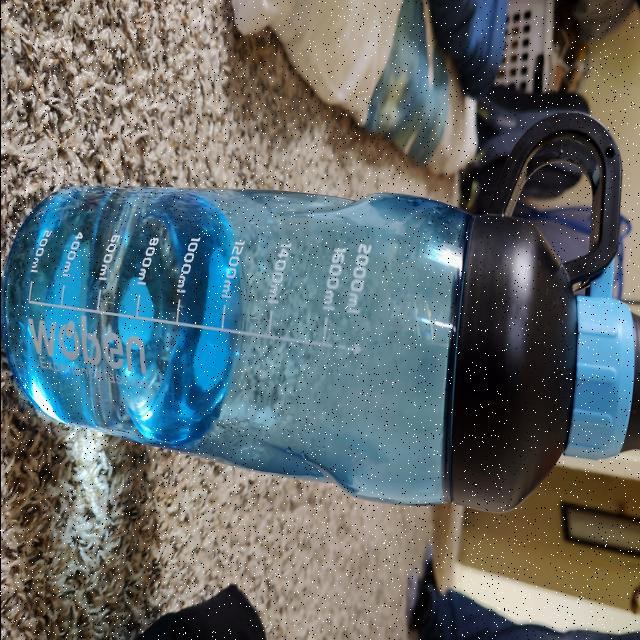bottle: (17, 124, 640, 474)
